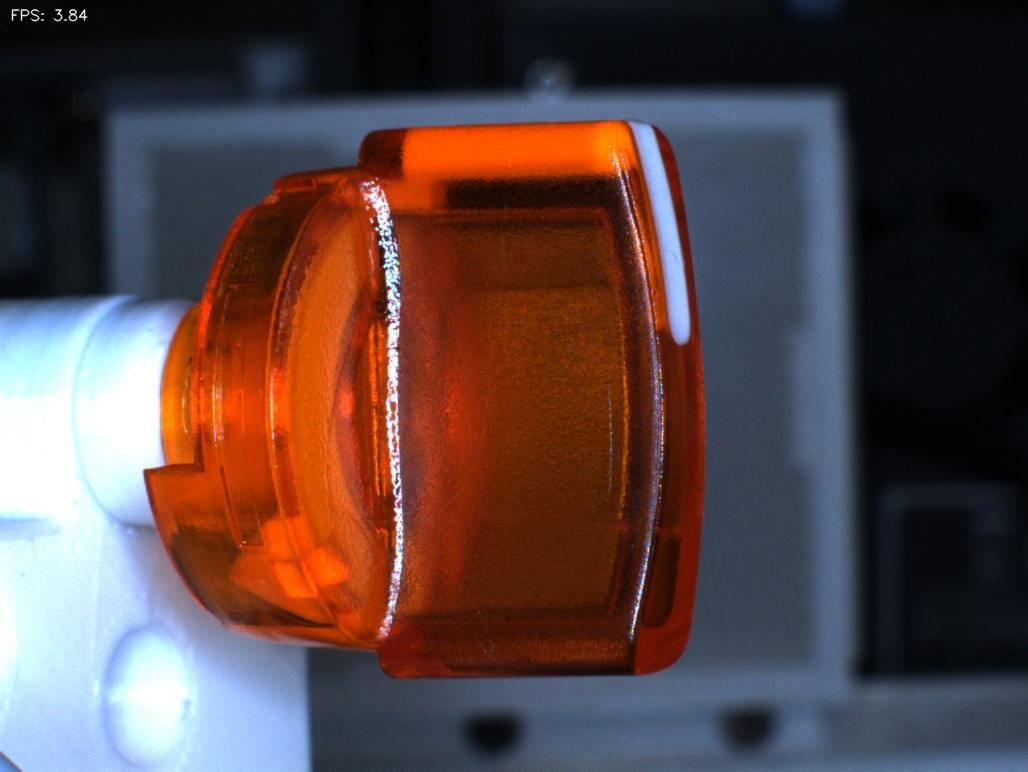Givrage: (429, 563, 520, 667)
